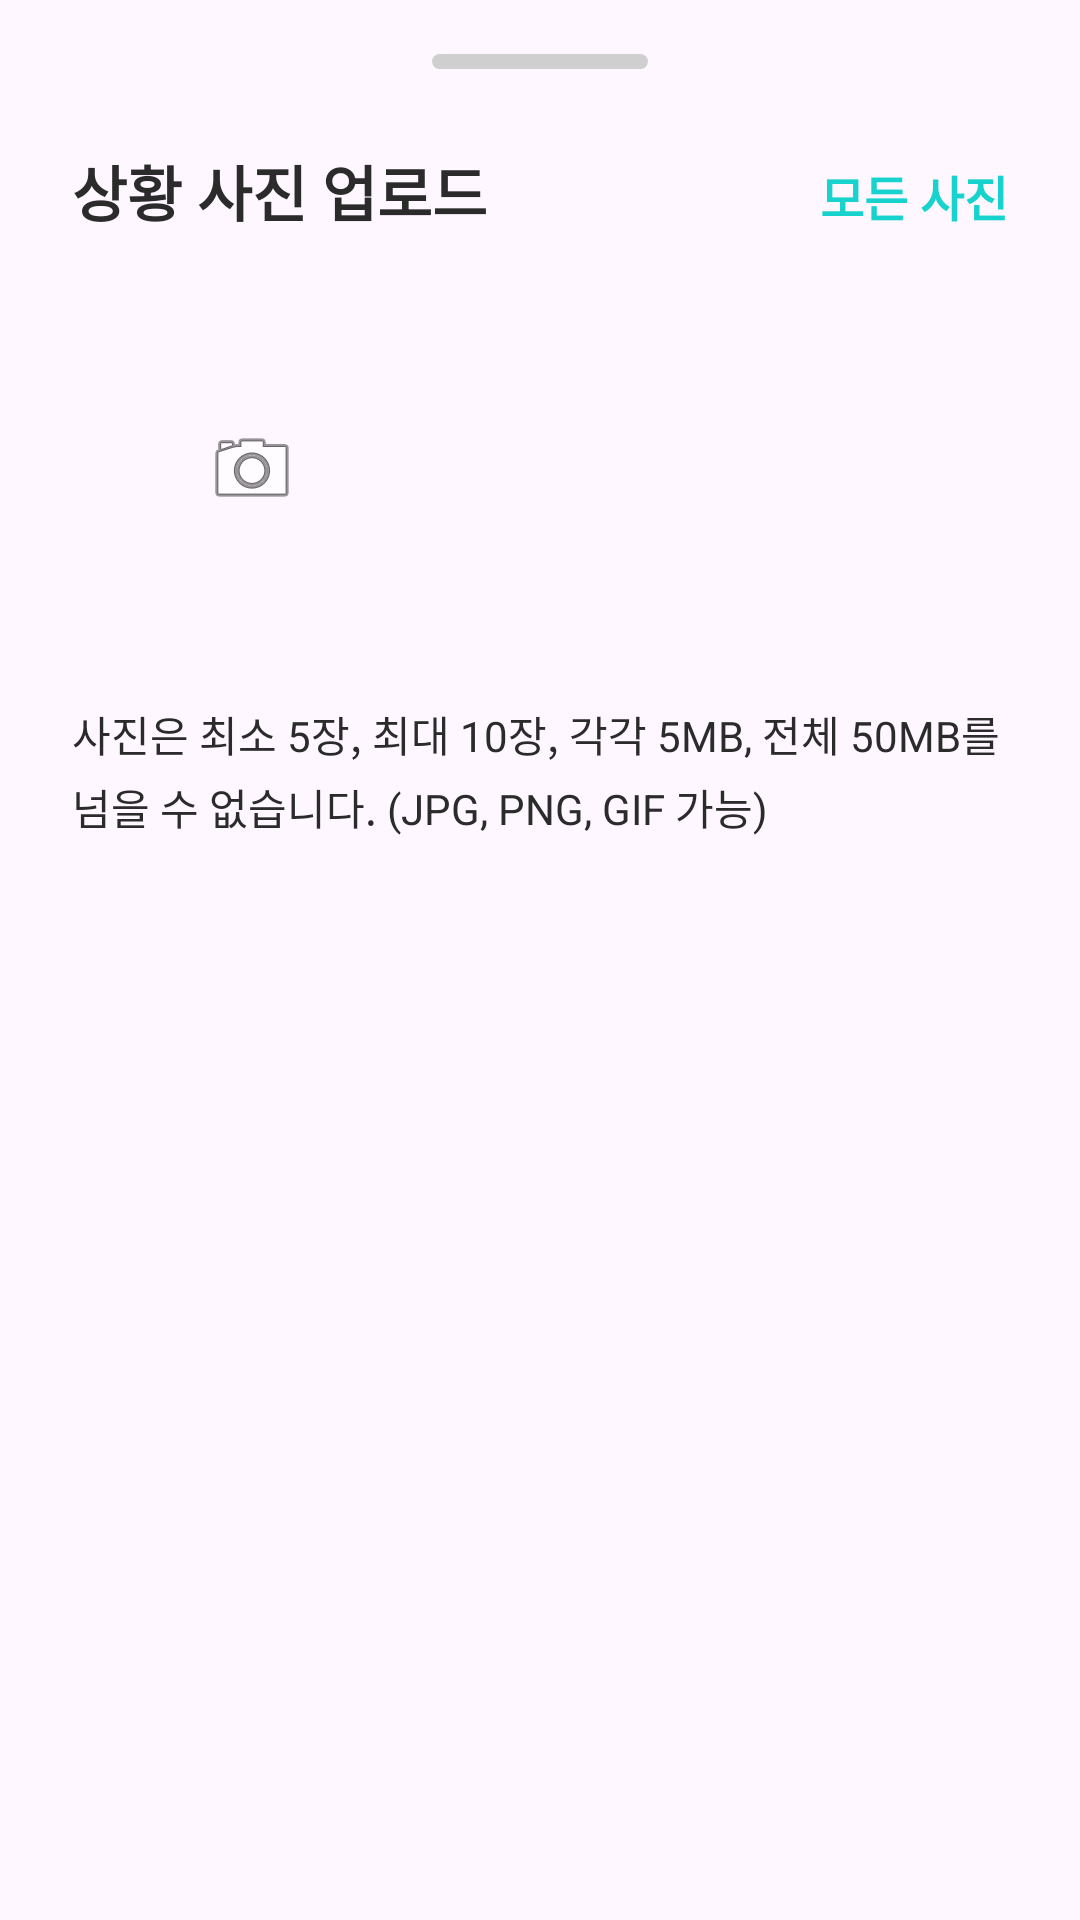

Where to tap for icons on this 1080 × 1920 app screen, as (x,y):
camera: (252,467)
